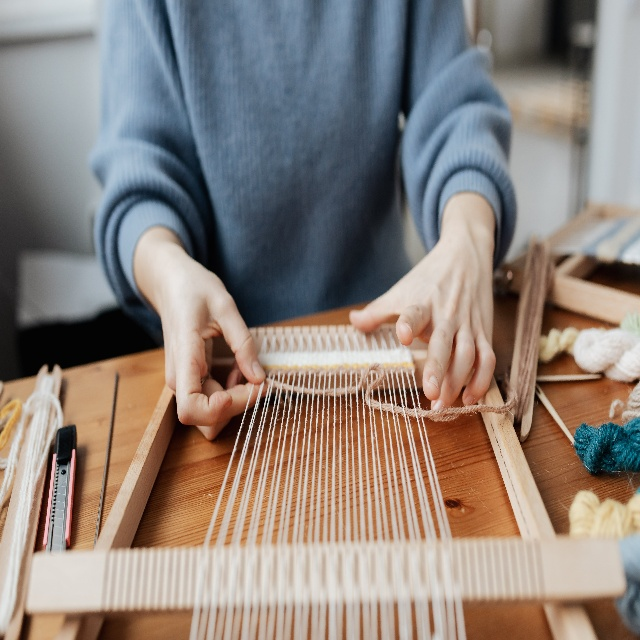Sin_guantes: (347, 225, 498, 413), (158, 242, 263, 433)
